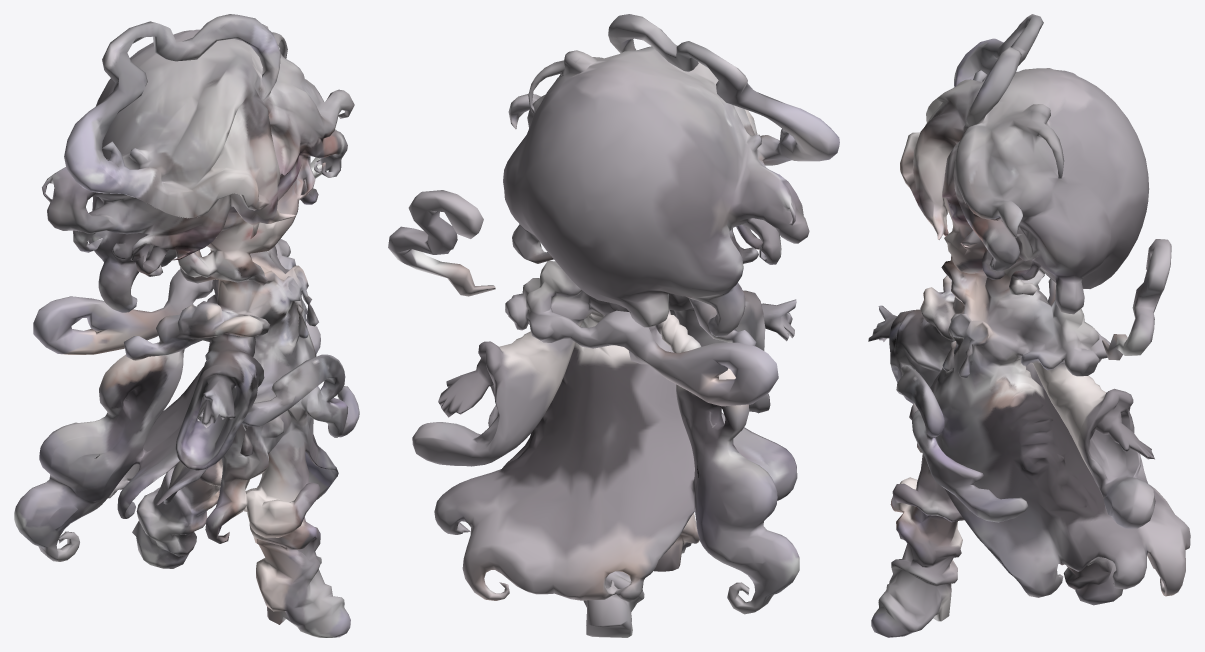
File: fog_painted.glb
3 views of the same model, side by side, from view 1: azimuth 30°, elevation 25°; view 2: azimuth 150°, elevation 25°; view 3: azimuth 270°, elevation 25° (orthographic). The views are drawn at different scales.
Visible parts, largest first — view 1: Body; view 2: Body; view 3: Body.
Boxes of the visible parts, <box> form: Body: <box>14,14,359,637</box>; Body: <box>388,14,839,637</box>; Body: <box>868,14,1190,637</box>.
Bounding box in the file's own units: 0.6506 × 0.9995 × 0.5219.
1 material, 1 textured.
